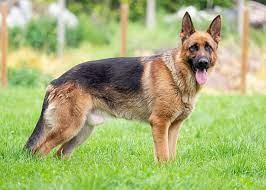Dog: (174, 9, 225, 86)
